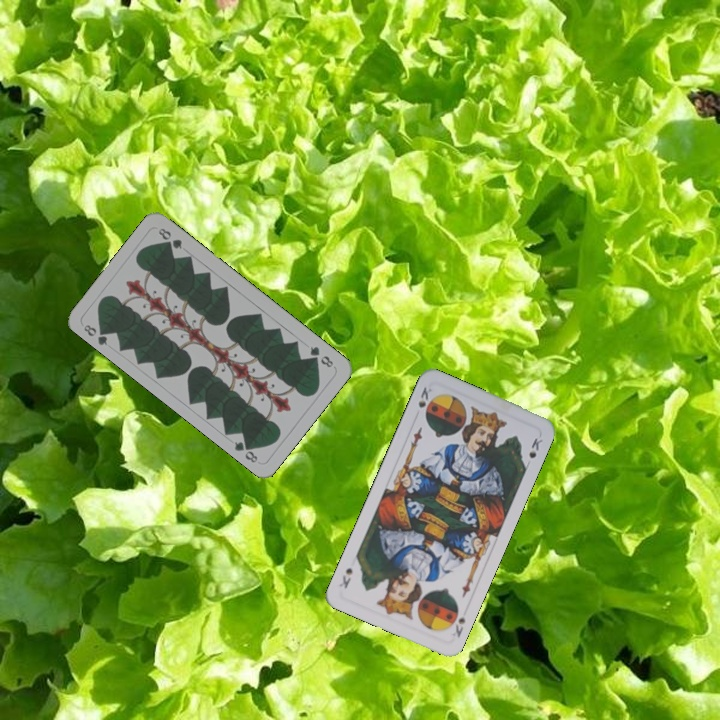G8: (80, 320, 112, 348), (306, 342, 336, 370)
SK: (414, 383, 435, 419), (448, 613, 468, 640)
